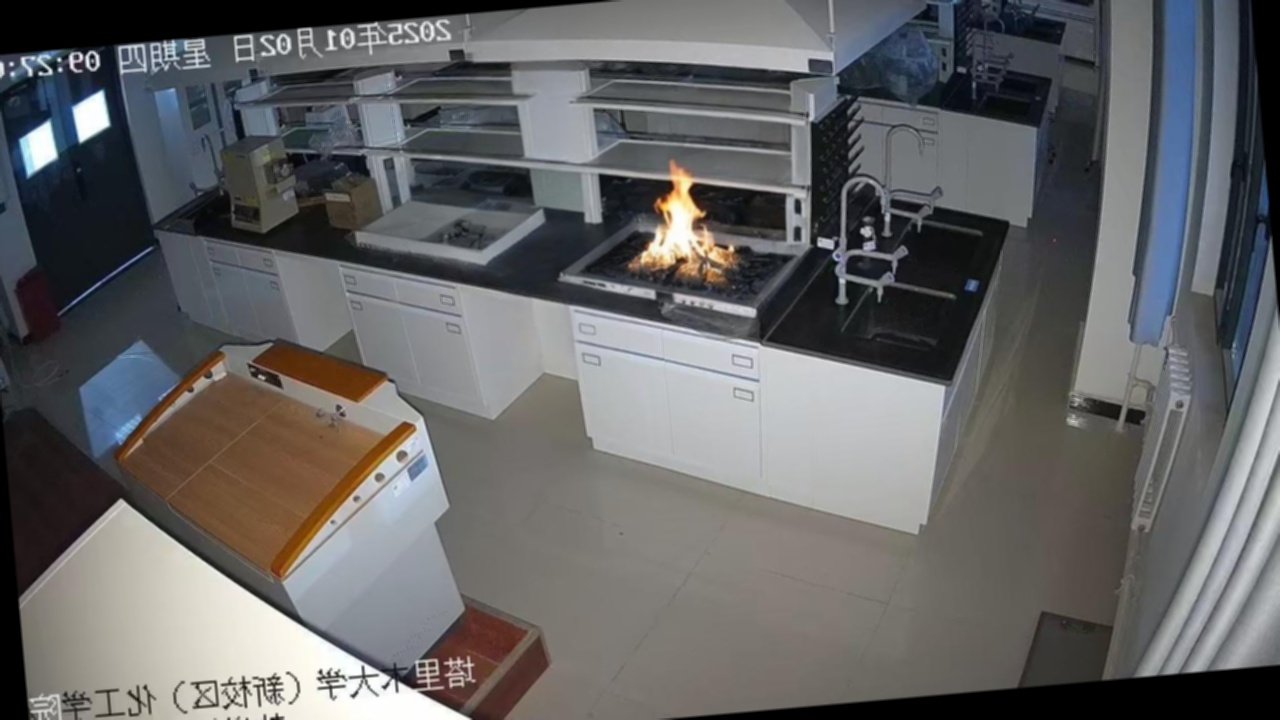fire: (602, 158, 744, 327)
